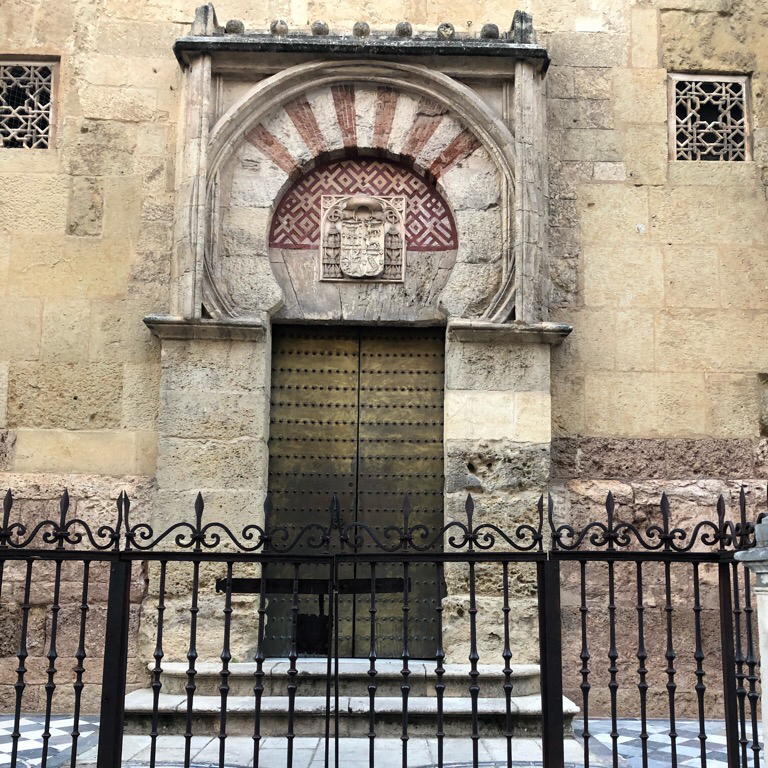arco-herradura: (237, 128, 481, 319)
